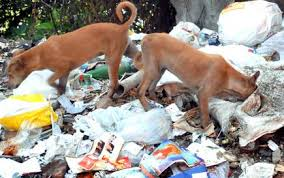garbage: (1, 96, 101, 178), (104, 113, 195, 178), (215, 105, 284, 177), (218, 2, 284, 55)
